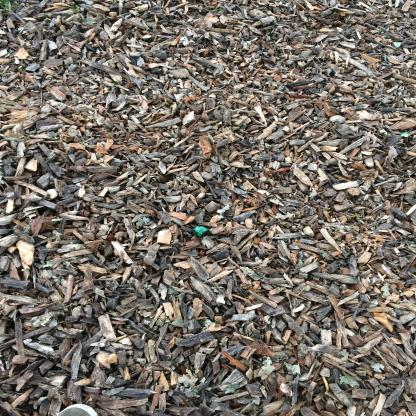trash: (190, 224, 210, 238)
